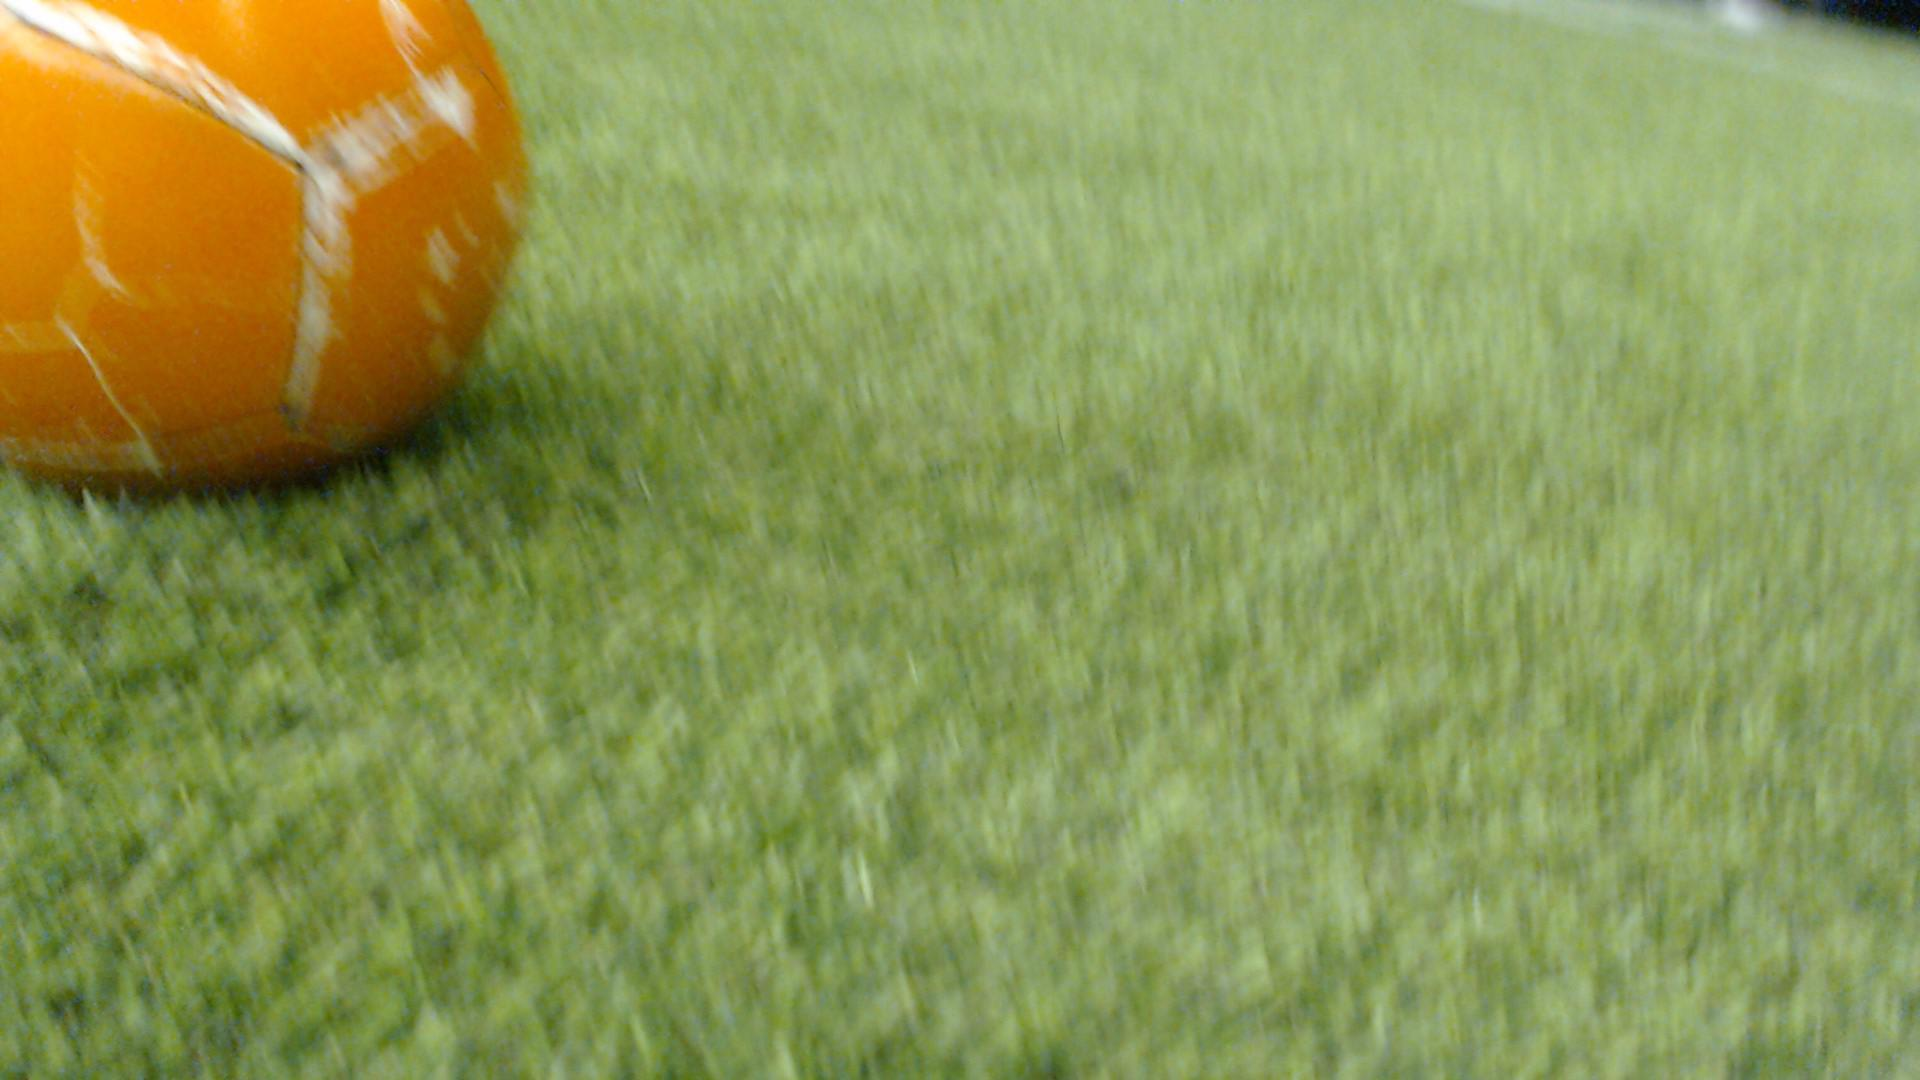bola: (0, 0, 560, 545)
